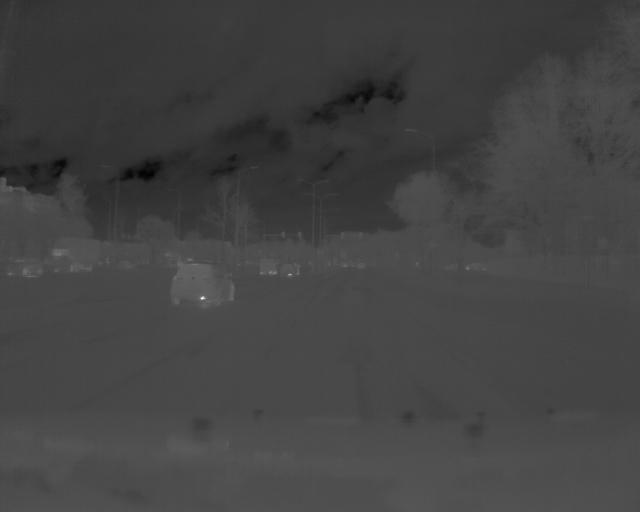car: (169, 261, 240, 310), (45, 237, 102, 274), (3, 253, 43, 281)
